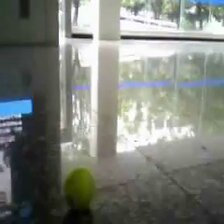tennis: (64, 168, 94, 205)
